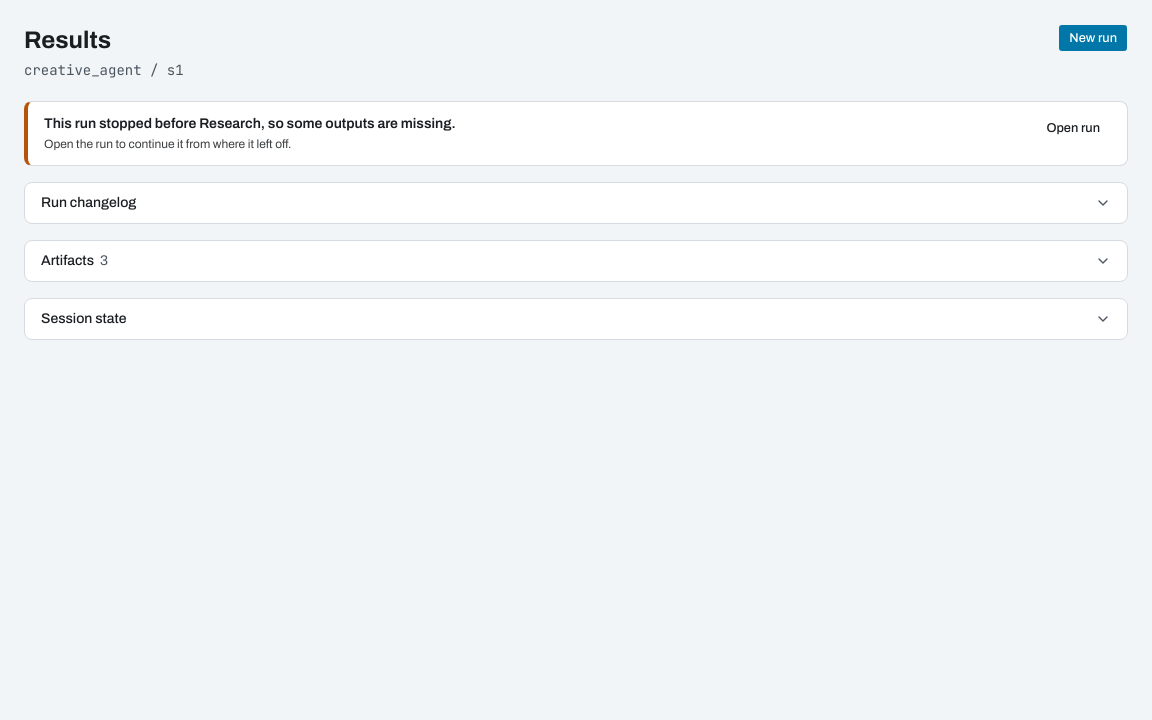
Test: results page: artifacts › lists artifact names without downloading any artifact payload
This screenshot has width=1152, height=720.
Click the button "Artifacts3": (67, 260) [25,240,1127,280]
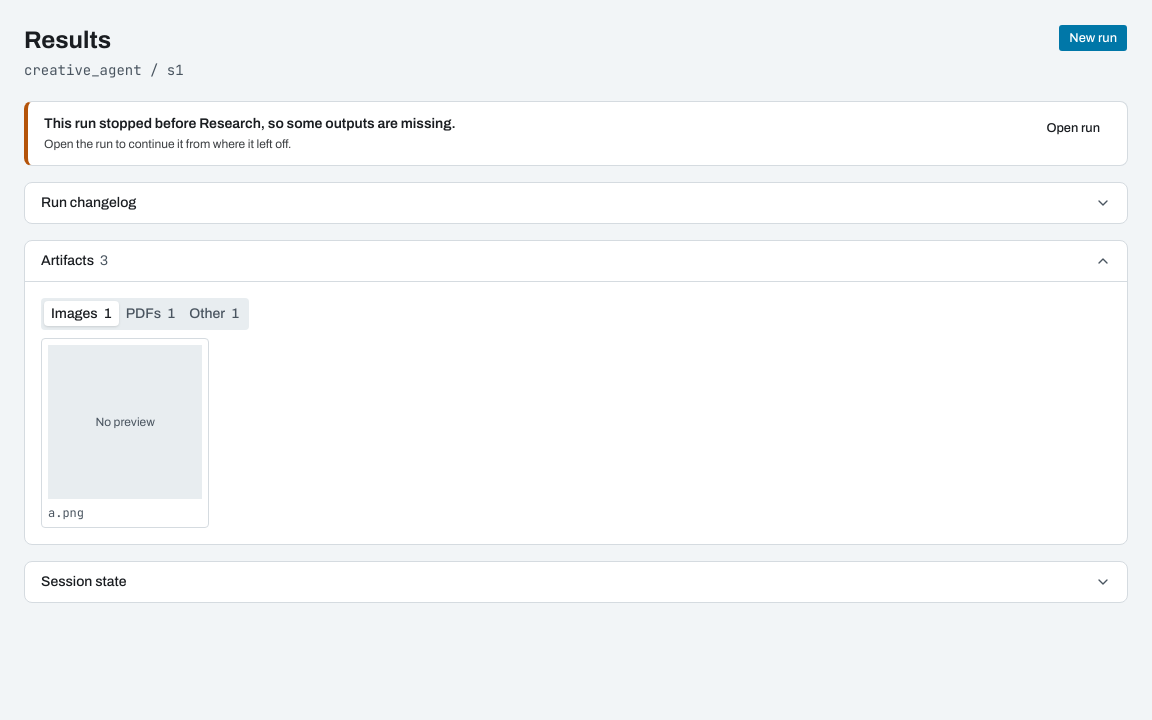
Result: the text "a.png" is shown at [48,505,84,521]
Click the tab "PDFs 1": (150, 314) [119,301,182,326]
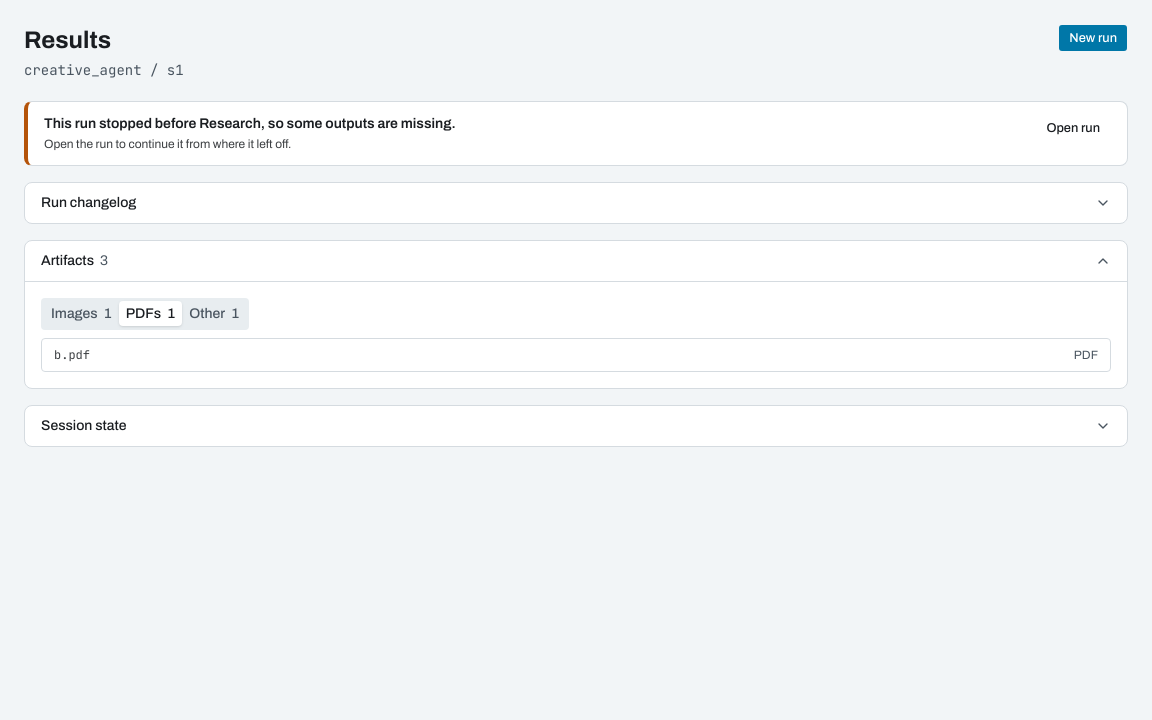
Result: the text "b.pdf" is shown at [54,346,90,362]
Click the tab "Other 1": (214, 314) [182,301,246,326]
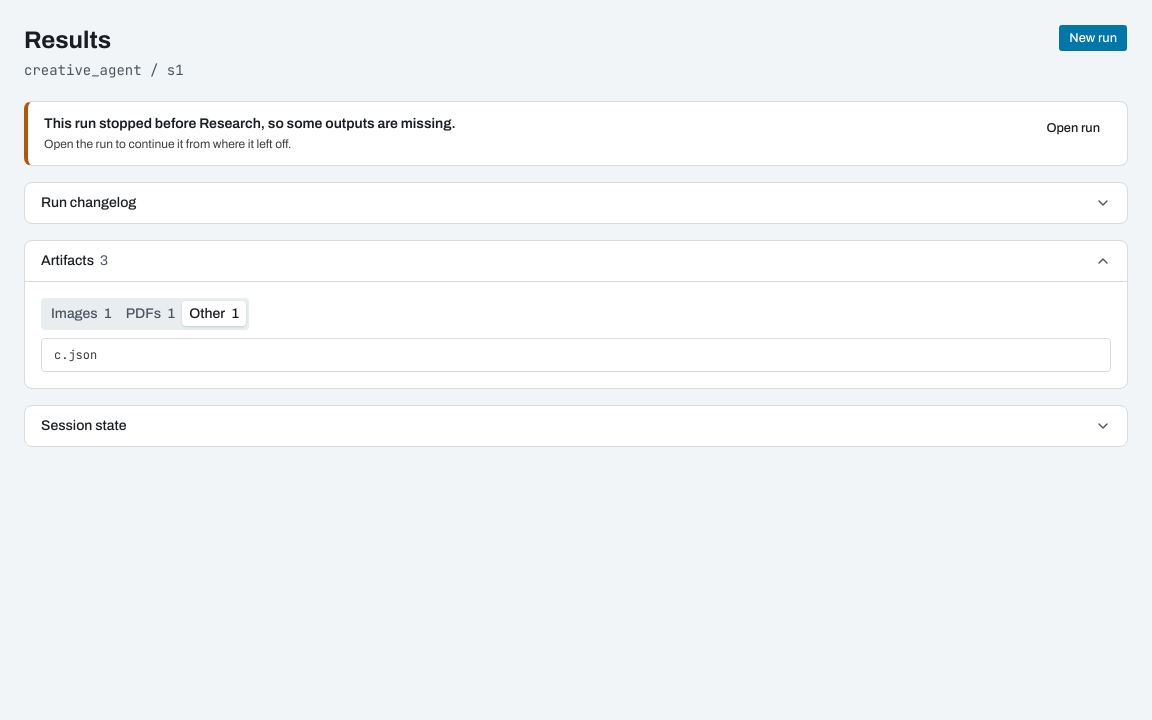
Result: the text "c.json" is shown at [54,346,97,362]
